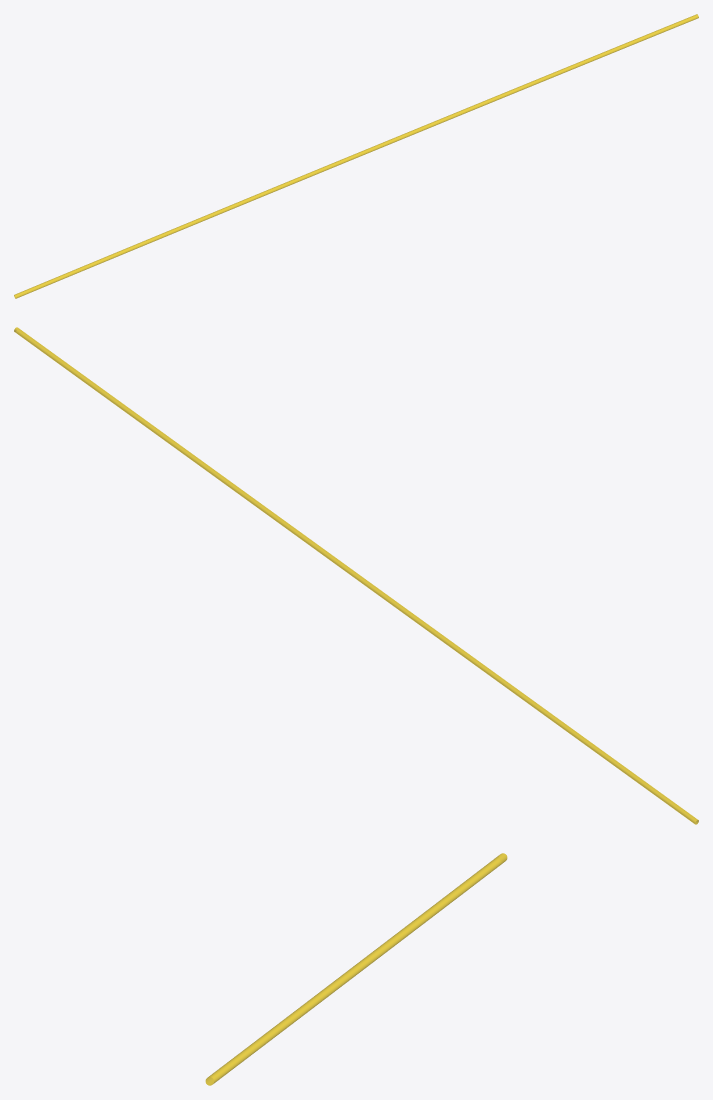
File: Event_27938768_track_2.fbx
3 renders of one model, top to bottom at view 1: azimuth 30°, elevation 25°; view 2: azimuth 150°, elevation 25°; view 3: azimuth 270°, elevation 25°, orthographic. The views are drawn at different scales.
Parts seen in each view (by area): view 1: Model; view 2: Model; view 3: Model.
Boxes of the visible parts, <box> form: Model: <box>14,14,698,298</box>; Model: <box>14,327,698,824</box>; Model: <box>205,853,507,1085</box>.
Bounding box in the file's own units: 6.43 × 1.91 × 1.38.
